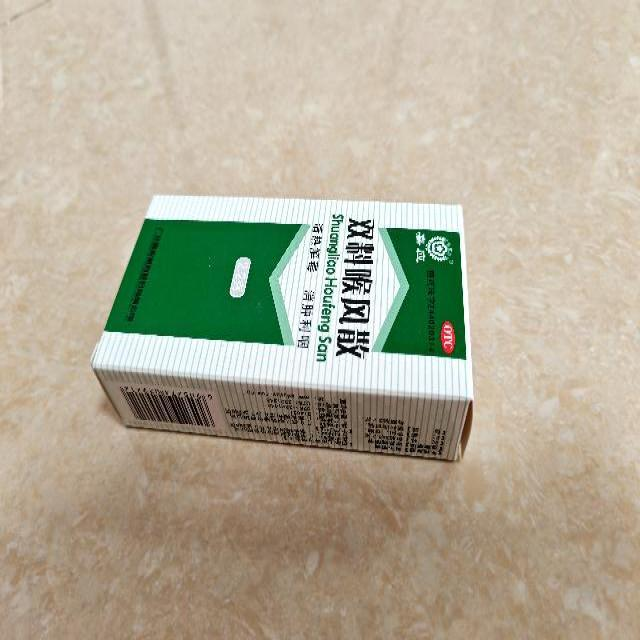box: (91, 193, 473, 460)
